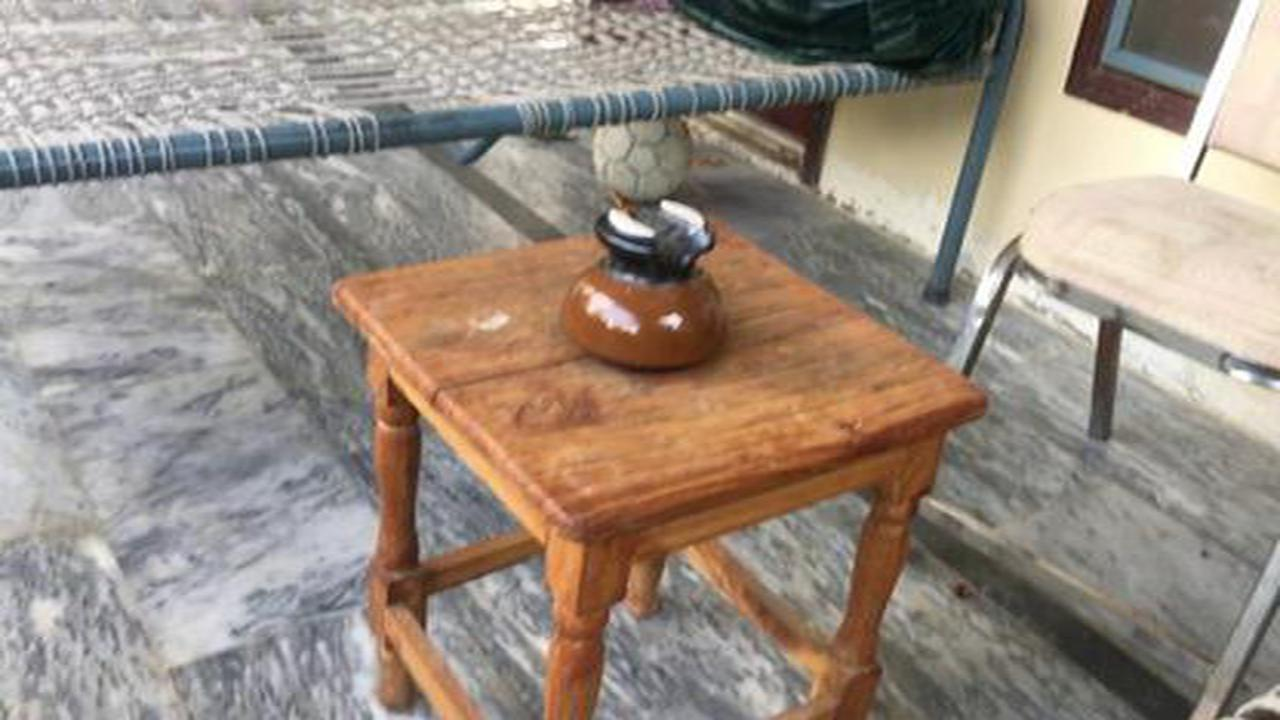insulator_pin: (545, 174, 751, 383)
